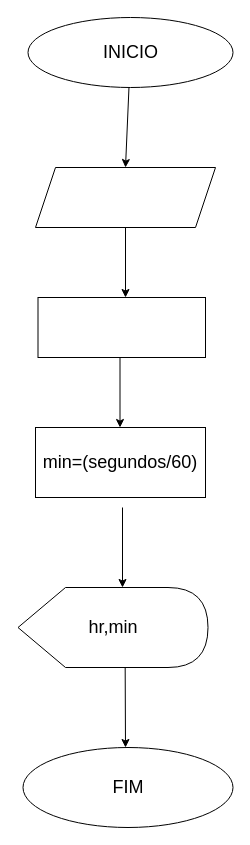
This 250x845 diagram has some shape labels left out. The box of each missing label's shape, as (x1, y1, x2, y2) in pixels:
h=(segundos/3600): (37, 296, 206, 358)
segundos: (34, 166, 216, 228)
